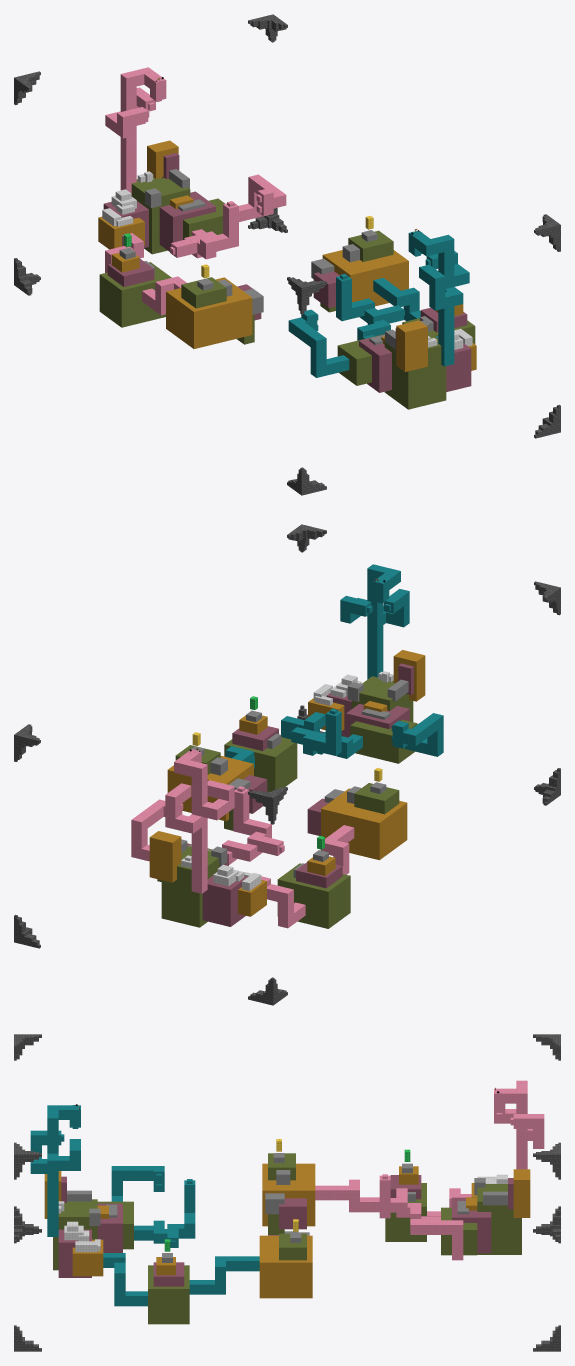
File: minecraft.obj
3 views of the same model, one above another, from view 1: azimuth 30°, elevation 25°; view 2: azimuth 150°, elevation 25°; view 3: azimuth 270°, elevation 25° (orthographic). The views are drawn at different scales.
Size of the model in its own units: 102 by 78 by 196.
